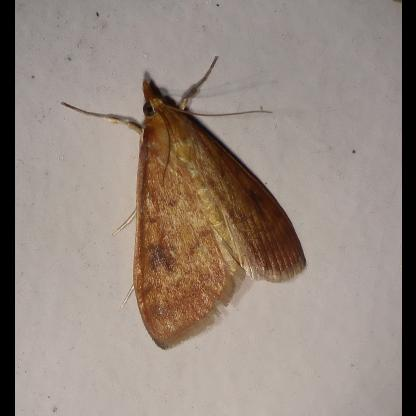Asian Corn Borer Moth: (58, 53, 308, 353)
